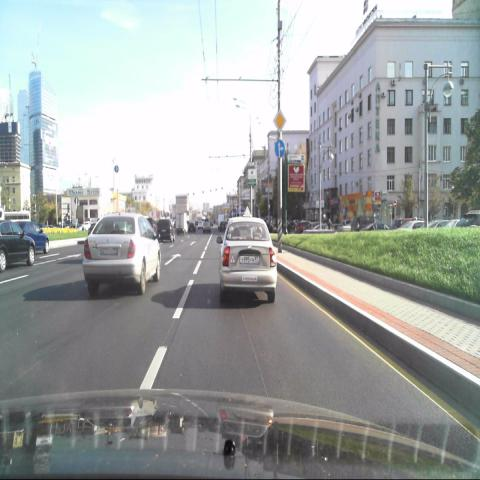4_1_4: (274, 137, 286, 158)
